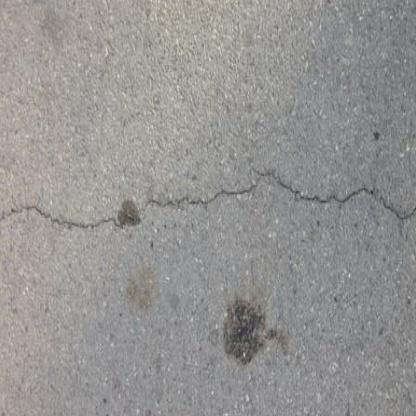Cracks: (0, 164, 416, 234)
